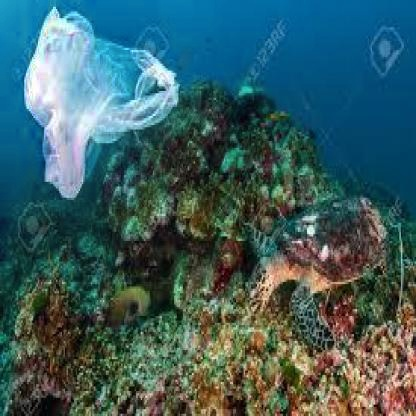pbag: (23, 5, 180, 200)
